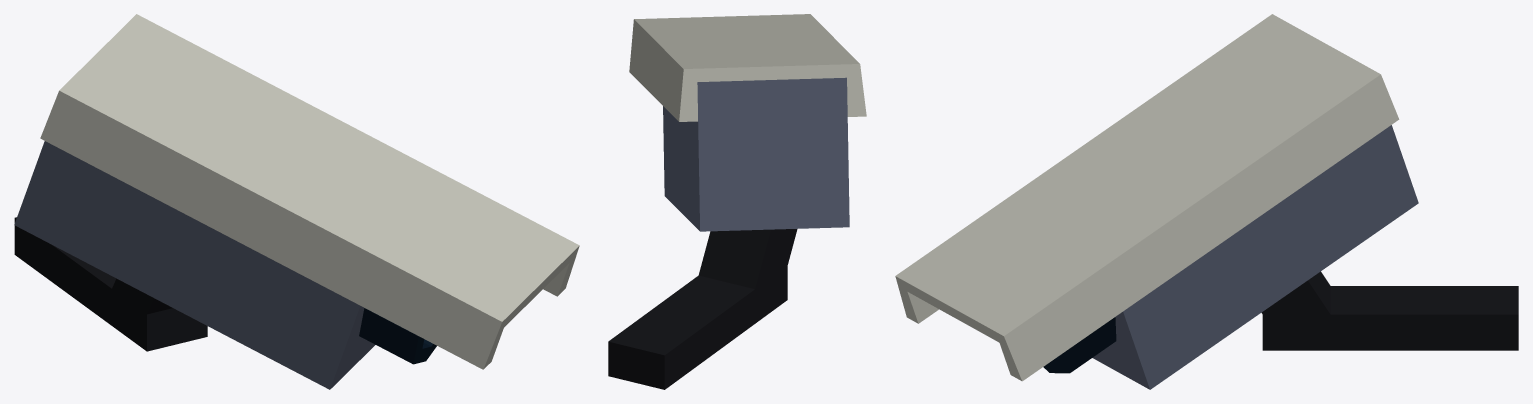
File: camera.fbx
3 views of the same model, side by side, from view 1: azimuth 30°, elevation 25°; view 2: azimuth 150°, elevation 25°; view 3: azimuth 270°, elevation 25° (orthographic). The views are drawn at different scales.
Visible parts, largest first — view 1: Cube.098; view 2: Cube.098; view 3: Cube.098.
Part boxes in pixels (x1=…): Cube.098: x1=14, y1=14, x2=579, y2=389; Cube.098: x1=608, y1=14, x2=866, y2=389; Cube.098: x1=895, y1=14, x2=1518, y2=389.
Bounding box in the file's own units: 87.13 × 58.57 × 122.
